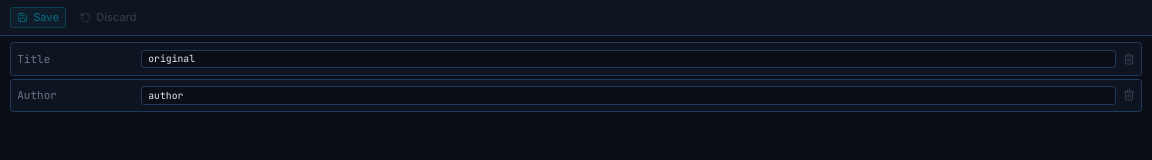
Test: a failed delete preserves undo of successful edits and allows retry
Step 1. Replace the text in the field next to "Title" with "edited" → (629,59), box [141, 50, 1116, 68]
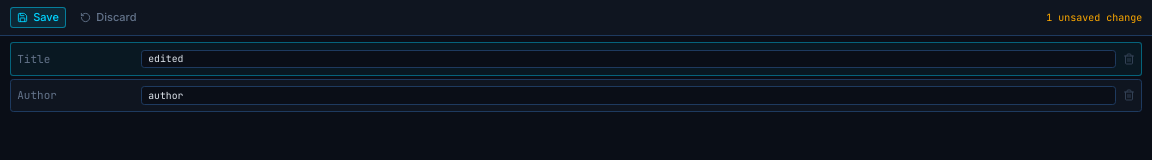
Step 2. Click the button named "Delete Author" → (1129,95), box [1123, 89, 1135, 101]
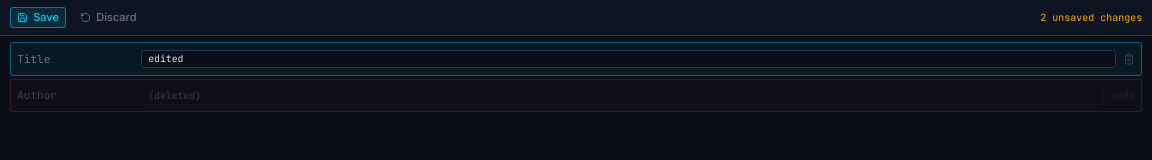
Step 3. Click the button "Save" → (38,17), box [10, 6, 66, 28]
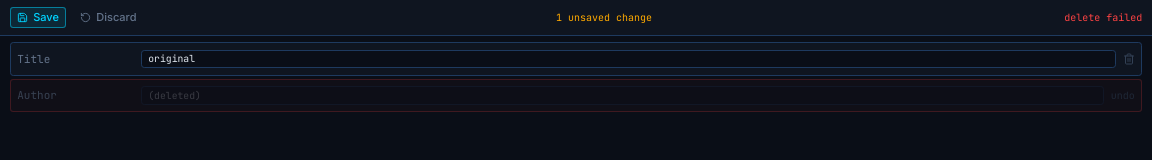
Now the text "delete failed" is shown, box [1064, 10, 1142, 25]
Step 4. Click the button "Save" → (38,17), box [10, 6, 66, 28]
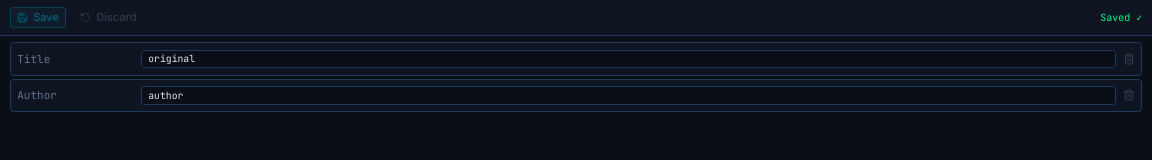
Now the text "Saved ✓" is shown, box [1100, 10, 1142, 25]
